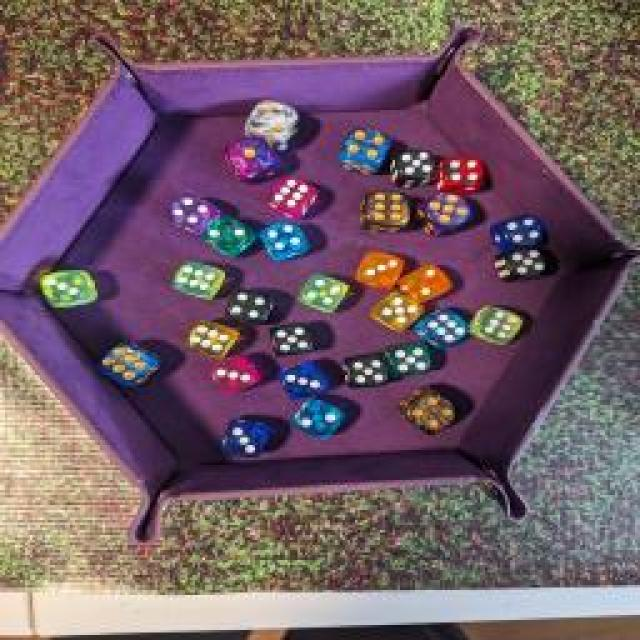dice_2: (240, 92, 302, 150), (218, 136, 284, 186), (397, 257, 455, 305), (199, 212, 256, 260), (292, 396, 348, 439)
dice_3: (35, 263, 100, 315), (215, 415, 277, 463), (275, 356, 335, 402), (202, 355, 260, 393), (350, 246, 405, 286)
dice_4: (395, 384, 467, 434), (332, 122, 390, 172), (258, 218, 314, 260), (294, 270, 348, 312), (164, 193, 218, 235), (225, 284, 277, 326), (488, 215, 550, 250), (438, 152, 492, 188)
dice_5: (415, 186, 475, 234), (368, 288, 424, 334), (495, 243, 553, 285), (386, 144, 442, 186), (341, 348, 391, 392), (268, 322, 320, 360), (387, 339, 435, 371)
dice_6: (104, 340, 166, 390), (354, 187, 414, 235), (180, 316, 242, 362), (259, 176, 321, 219), (167, 259, 225, 301), (468, 302, 522, 346), (414, 306, 466, 349)
